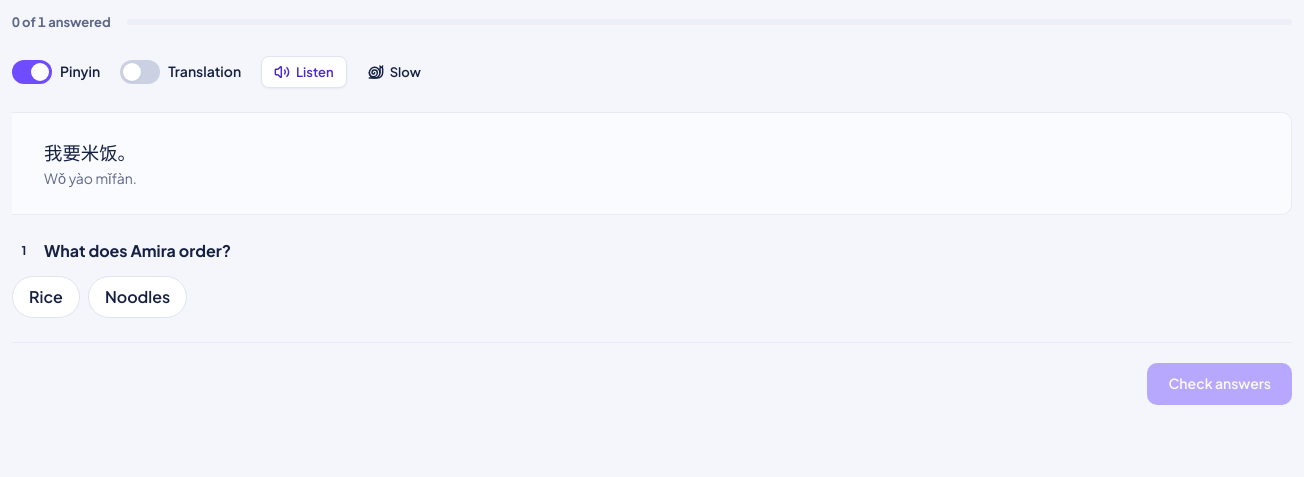
Practice set players › Story shows pinyin and translation on request and checks the answers together
Expected: the text "I want rice." is not shown
Click the switch labelled "Translation" at (140, 72), box [120, 60, 160, 84]
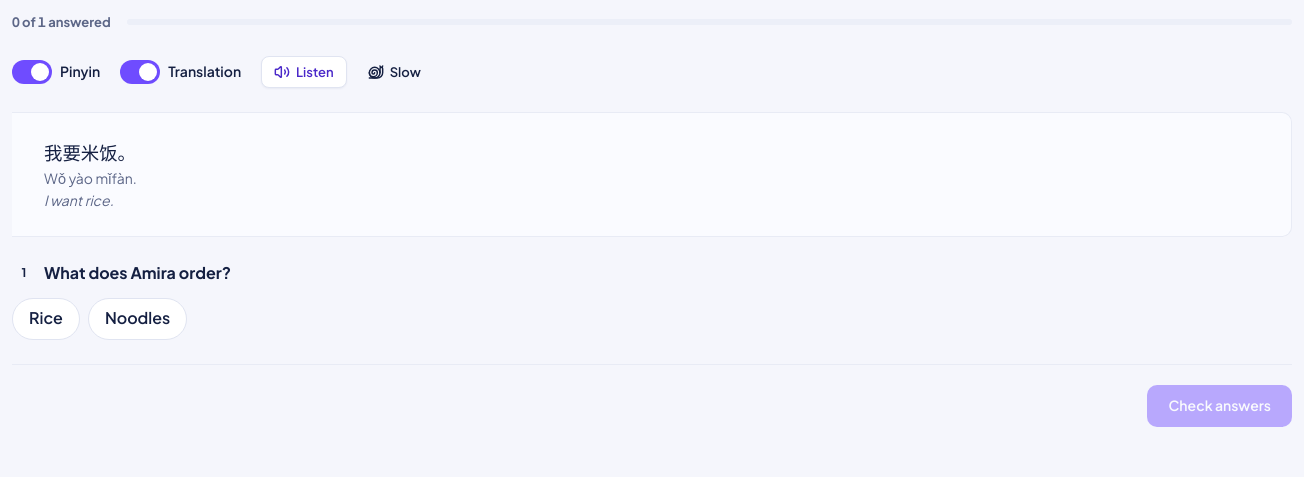
Expected: the button with test id "story-check" is disabled, [1148, 385, 1292, 427]
Result: the text "I want rice." is shown at [44, 191, 114, 209]
Click the button "Rice" at (46, 319), box [12, 298, 80, 340]
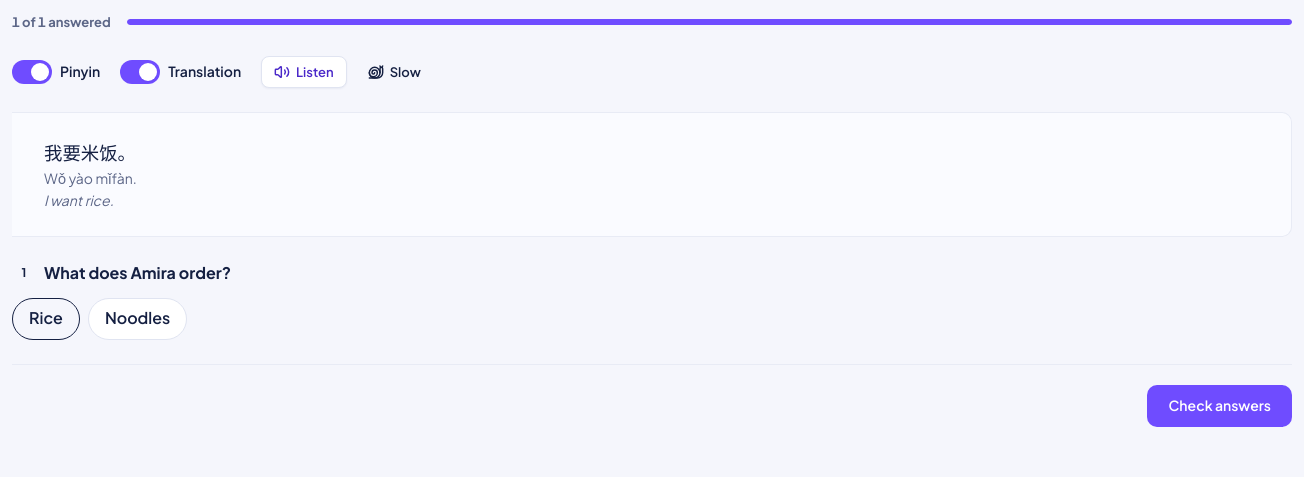
Click the button with test id "story-check" at (1220, 406), box [1148, 385, 1292, 427]
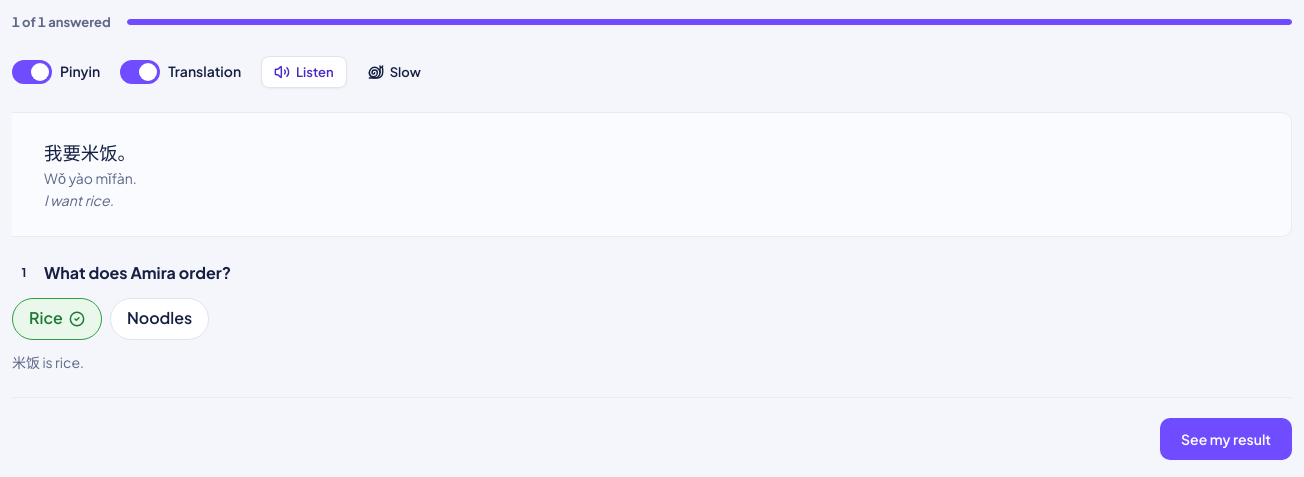
Result: the text "米饭 is rice." is shown at [12, 353, 84, 371]
